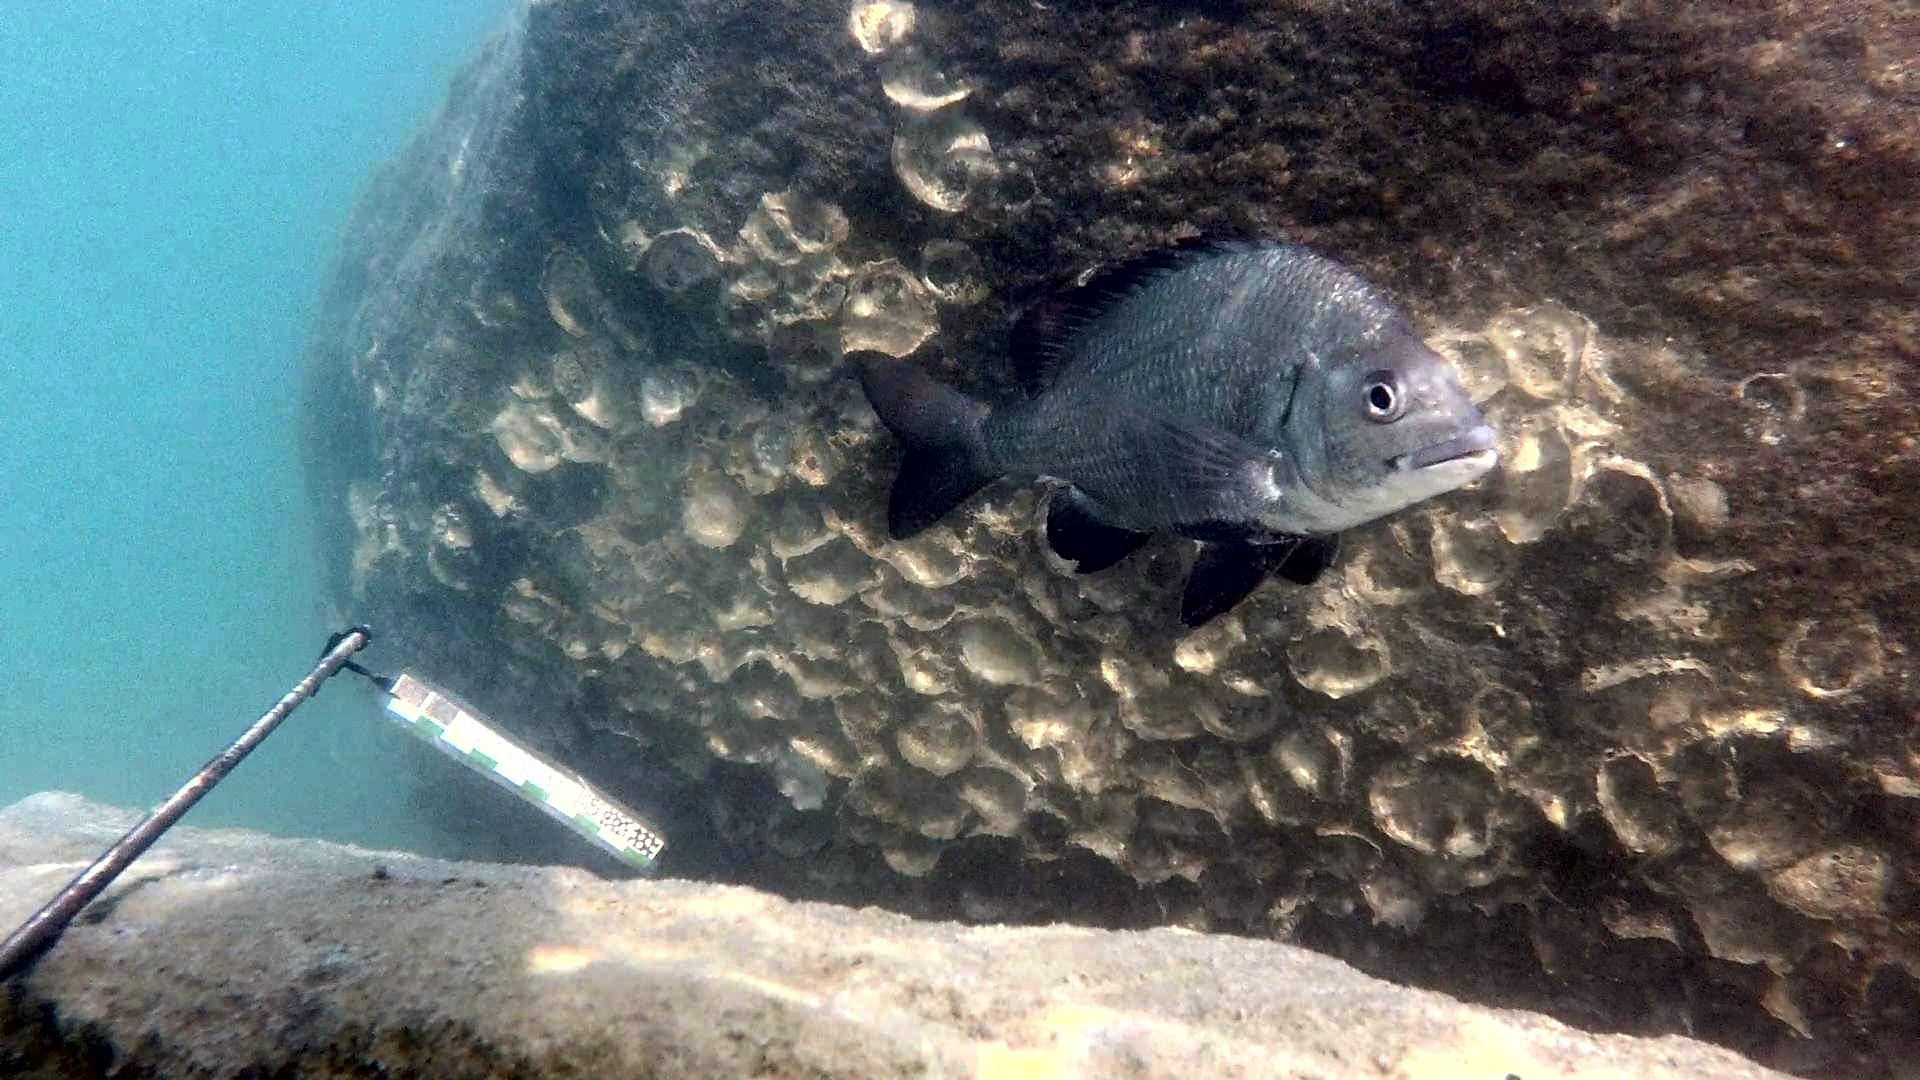acanthopagrus palmaris: (844, 219, 1506, 632)
